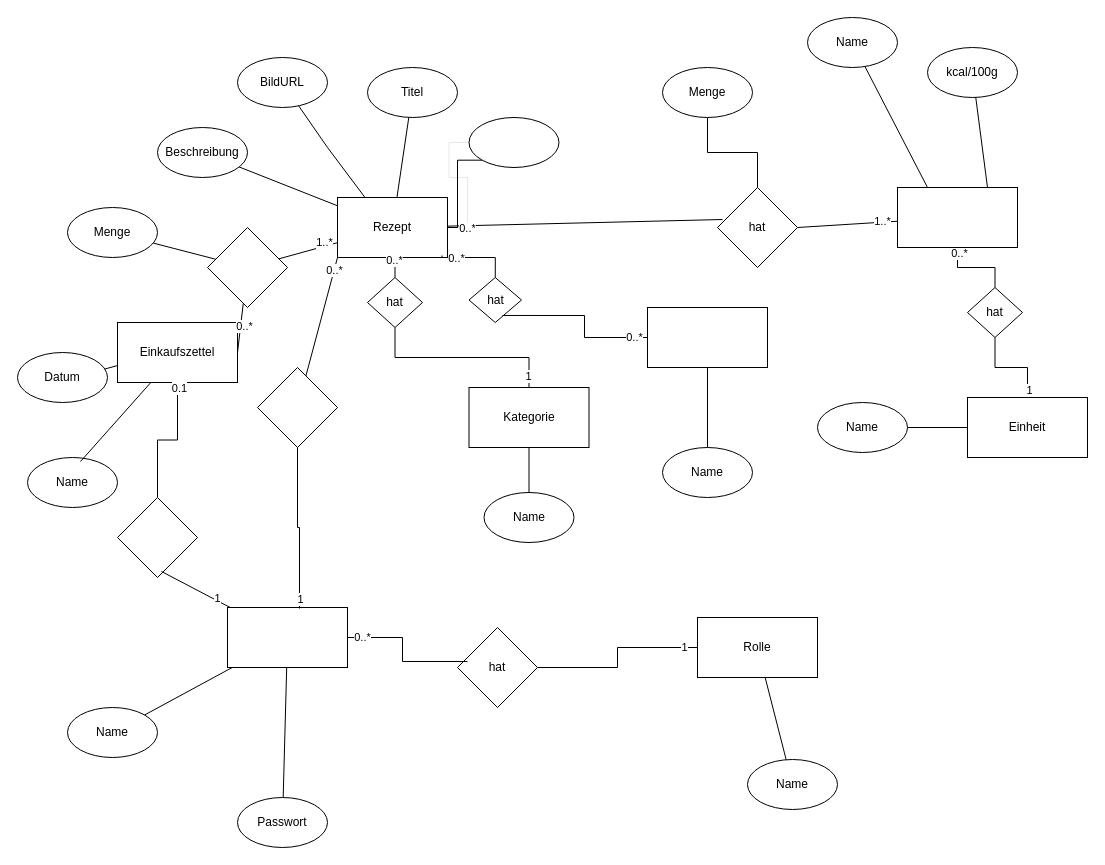
The diagram is 1105 pixels wide and 865 high, and some of its shapes have lost their labels. The shapes that lost their labels are listed below. From the top down, each one's centre as x and y in pixels, then its label:
point 513,142: öffentlich?
point 957,217: Zutat
point 247,267: enthält
point 707,337: Tag
point 297,407: erstellt von
point 157,537: erstellt
point 287,637: User
